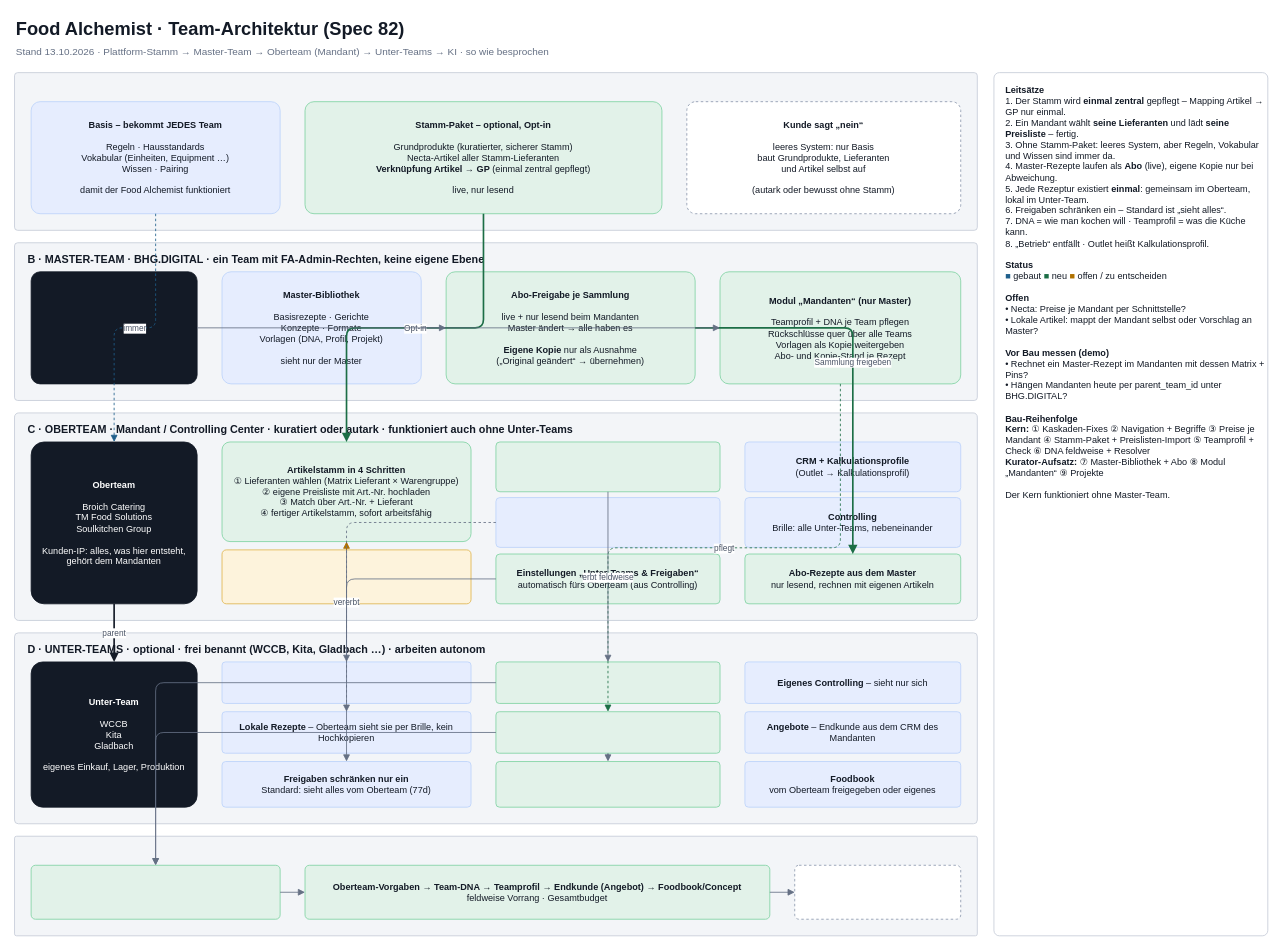
This 1282x950 diagram has some shape labels left out. The box of each missing label's shape, as (x1, y1, x2, y2) in pixels:
A · PLATTFORM-STAMM · global (team_id NULL) · Pflege nur durch Master: (14, 72, 977, 230)
AiGateway → LLM: (794, 864, 961, 919)
BHG.DIGITAL Master-Team pflegt Stamm + Bibliothek arbeitet in Mandanten mit: (30, 271, 197, 384)
E · KI-KASKADE: (14, 835, 977, 936)
Eigene Preise je Mandant entschieden 13.10. · Import: CSV oder Necta: (221, 549, 471, 604)
Erbt Artikel + Preise · Matrix ergänzen · Lead-Artikel pinnen: (221, 661, 471, 703)
Food-DNA = Vorgaben Felder als verbindlich markierbar: (495, 441, 720, 492)
Gemeinsame Rezepte + Foodbooks alle Unter-Teams sehen sie: (495, 497, 720, 547)
KontextResolver (zentral) Aufrufer geben nur das Objekt: (30, 864, 280, 919)
Machbarkeits-Check Rezept braucht X – Team hat X? (ohne KI): (495, 761, 720, 807)
Team-DNA – erbt Vorgaben, überschreibt feldweise: (495, 661, 720, 703)
Teamprofil (Fakten) – Equipment, Flächen, Pax, Personal: (495, 711, 720, 753)
